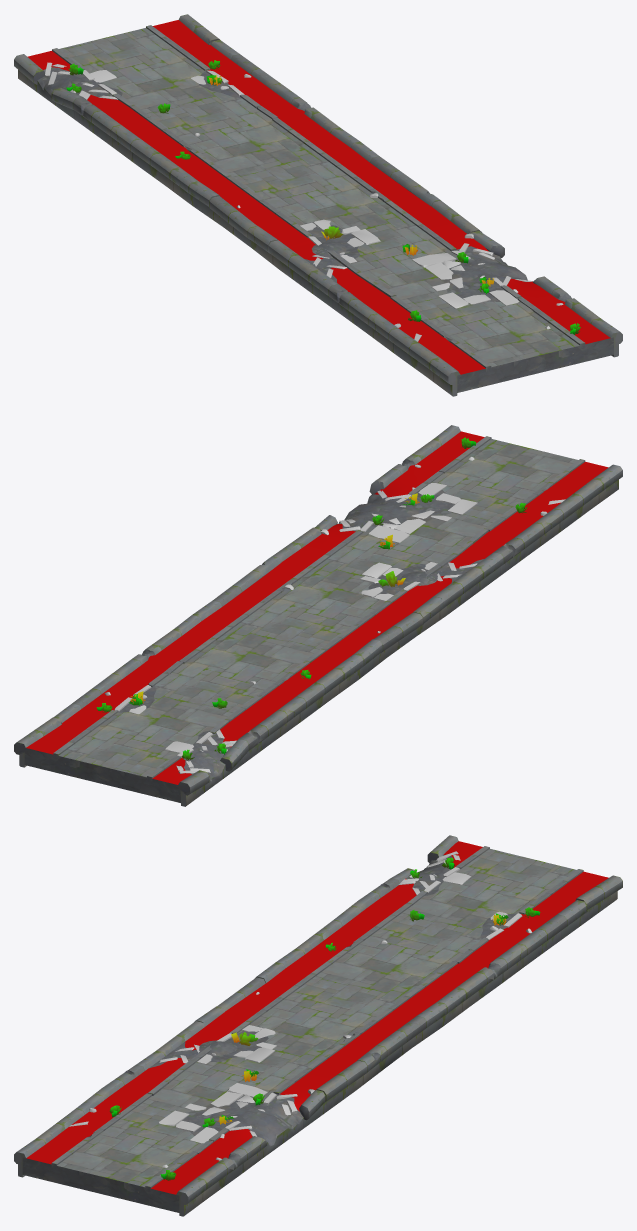
File: Area_MdBuild_SdBridge21_Group.fbx
3 renders of one model, top to bottom at view 1: azimuth 30°, elevation 25°; view 2: azimuth 150°, elevation 25°; view 3: azimuth 330°, elevation 25°, orthographic.
Visible parts, largest first — view 1: Area_MdBuild_SdBridge21_Lod0; view 2: Area_MdBuild_SdBridge21_Lod0; view 3: Area_MdBuild_SdBridge21_Lod0.
Part boxes in pixels (x1=…): Area_MdBuild_SdBridge21_Lod0: x1=14, y1=14, x2=622, y2=396; Area_MdBuild_SdBridge21_Lod0: x1=14, y1=425, x2=622, y2=806; Area_MdBuild_SdBridge21_Lod0: x1=14, y1=835, x2=622, y2=1216.
Size of the model in its own units: 10.68 by 1.78 by 45.
